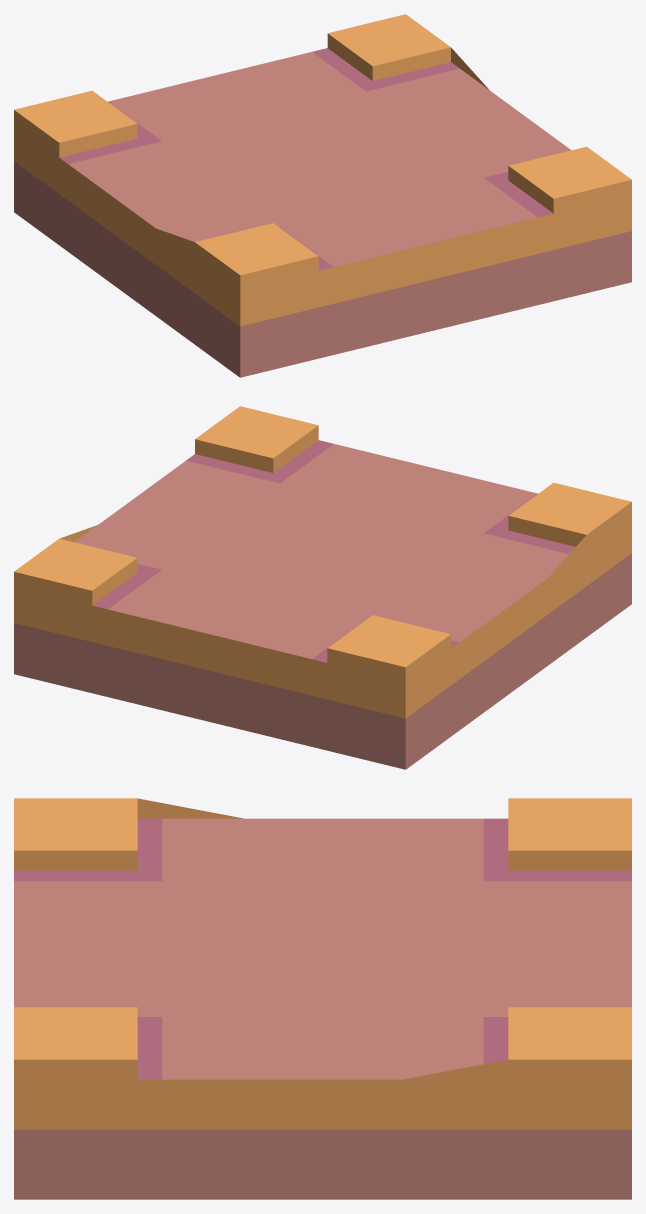
File: Crossroad.fbx
3 renders of one model, top to bottom at view 1: azimuth 30°, elevation 25°; view 2: azimuth 150°, elevation 25°; view 3: azimuth 270°, elevation 25°, orthographic. The views are drawn at different scales.
Visible parts, largest first — view 1: Crossroad; view 2: Crossroad; view 3: Crossroad.
Boxes of the visible parts, left/top/right/bottom form: Crossroad: left=14, top=14, right=631, bottom=377; Crossroad: left=14, top=406, right=631, bottom=769; Crossroad: left=14, top=798, right=631, bottom=1199.
Size of the model in its own units: 2 by 0.5 by 2.
